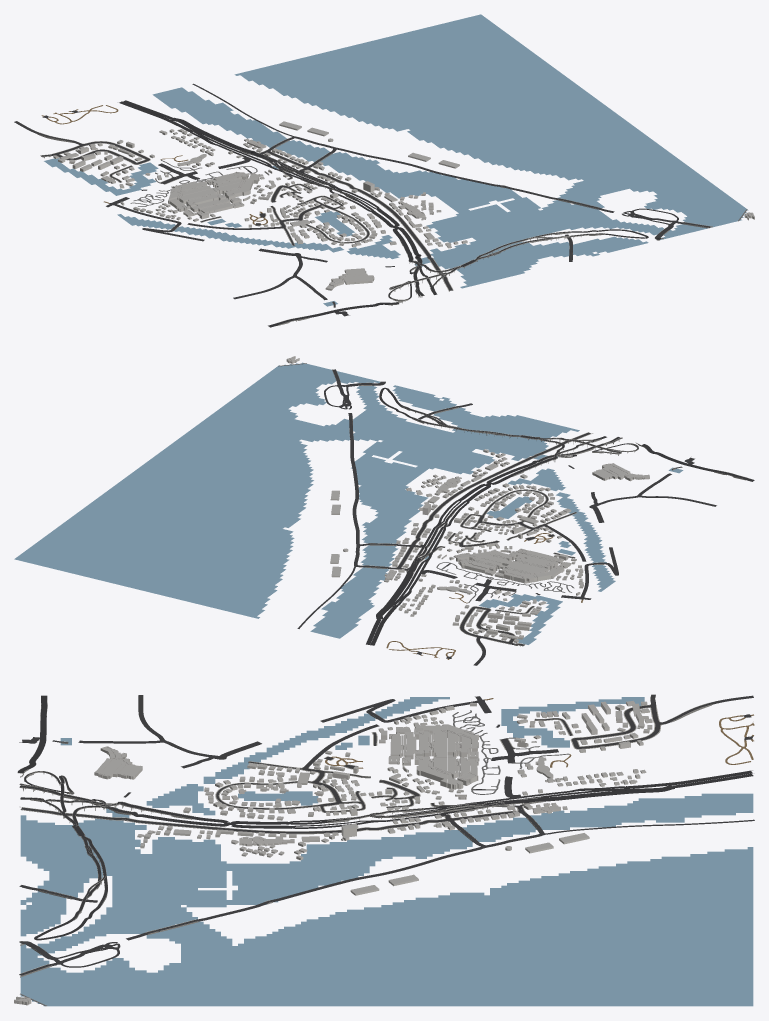
File: chunk_8_3.glb
3 renders of one model, top to bottom at view 1: azimuth 30°, elevation 25°; view 2: azimuth 150°, elevation 25°; view 3: azimuth 270°, elevation 25°, orthographic. The views are drawn at different scales.
Visible parts, largest first — view 1: Water_8_3, Roads_8_3, Filler_8_3, Buildings_8_3, RoadSides_8_3; view 2: Water_8_3, Roads_8_3, Filler_8_3, Buildings_8_3, RoadSides_8_3; view 3: Water_8_3, Roads_8_3, Filler_8_3, Buildings_8_3, RoadSides_8_3.
Boxes of the visible parts, x1=… form: Water_8_3: x1=44, y1=14, x2=747, y2=306; Roads_8_3: x1=14, y1=83, x2=747, y2=327; Filler_8_3: x1=53, y1=129, x2=467, y2=248; Buildings_8_3: x1=101, y1=121, x2=754, y2=290; RoadSides_8_3: x1=37, y1=132, x2=712, y2=325; Water_8_3: x1=14, y1=362, x2=682, y2=644; Roads_8_3: x1=278, y1=363, x2=754, y2=665; Filler_8_3: x1=384, y1=449, x2=583, y2=642; Buildings_8_3: x1=286, y1=356, x2=649, y2=614; RoadSides_8_3: x1=332, y1=369, x2=747, y2=654; Water_8_3: x1=20, y1=697, x2=753, y2=1006; Roads_8_3: x1=17, y1=694, x2=754, y2=1006; Filler_8_3: x1=137, y1=700, x2=652, y2=860; Buildings_8_3: x1=14, y1=702, x2=589, y2=1005; RoadSides_8_3: x1=18, y1=695, x2=711, y2=977.
Bounding box in the file's own units: 2053 × 29.91 × 2071.
